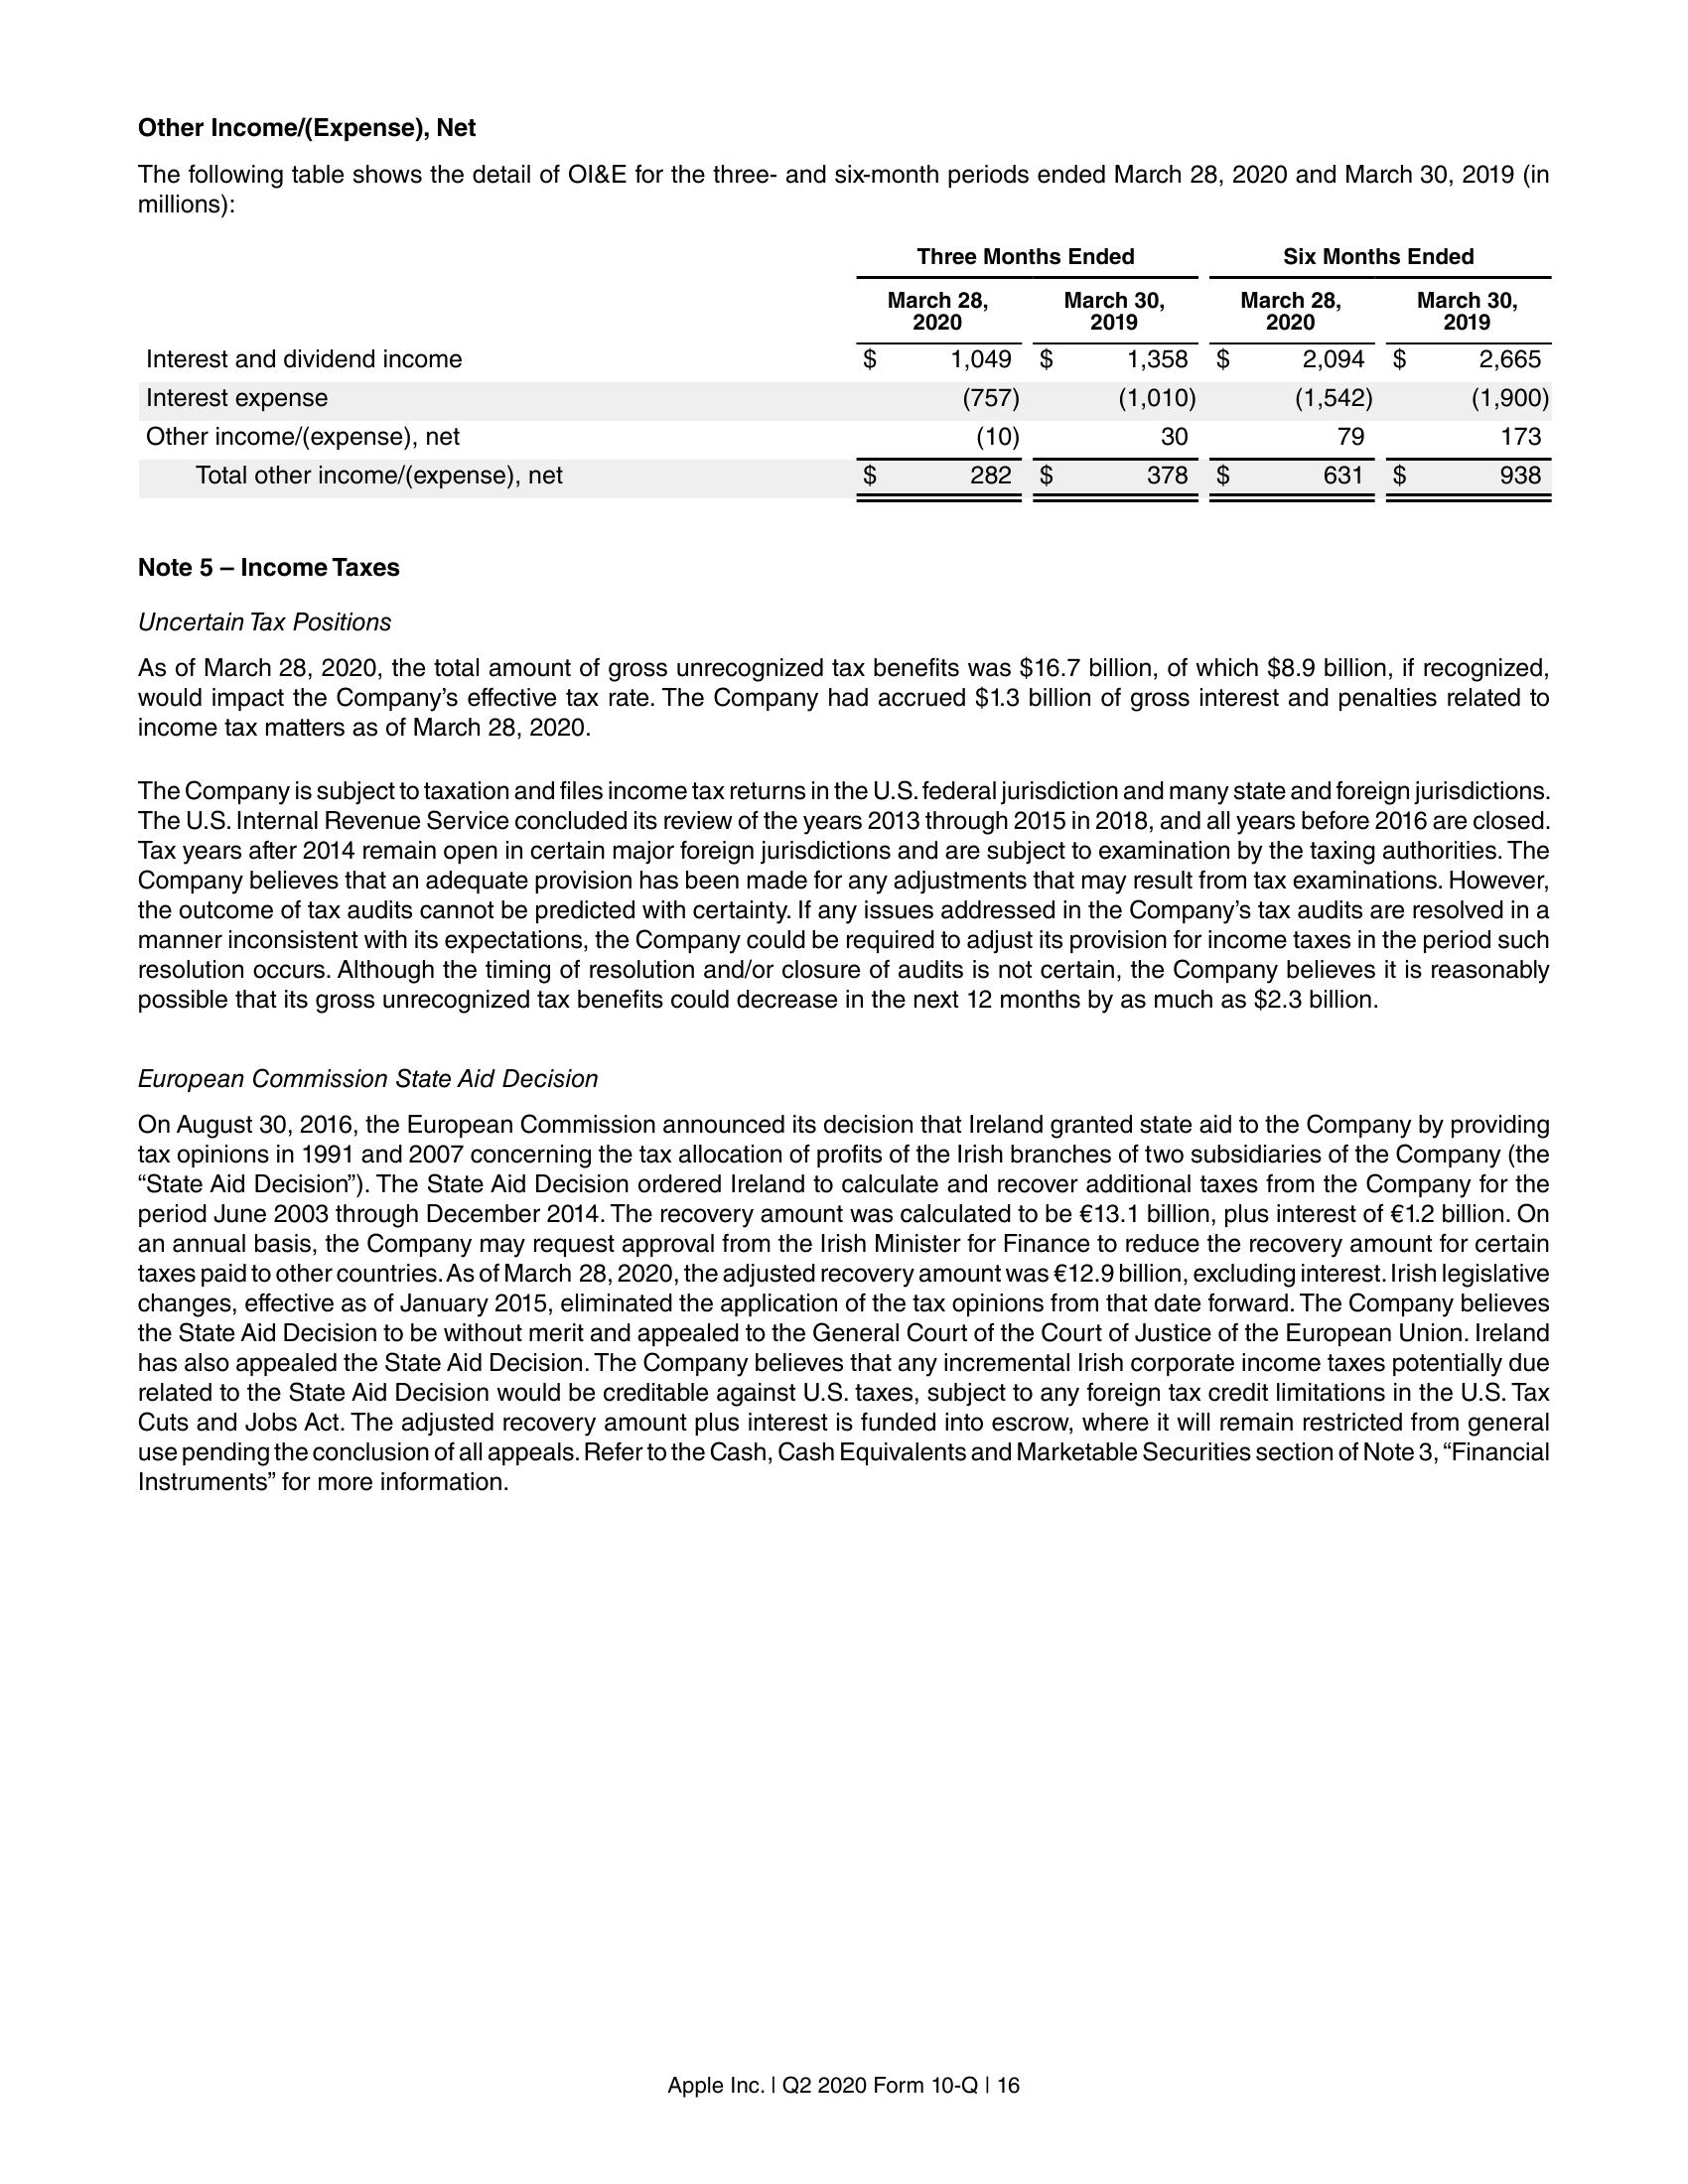table: (142, 243, 1562, 511)
